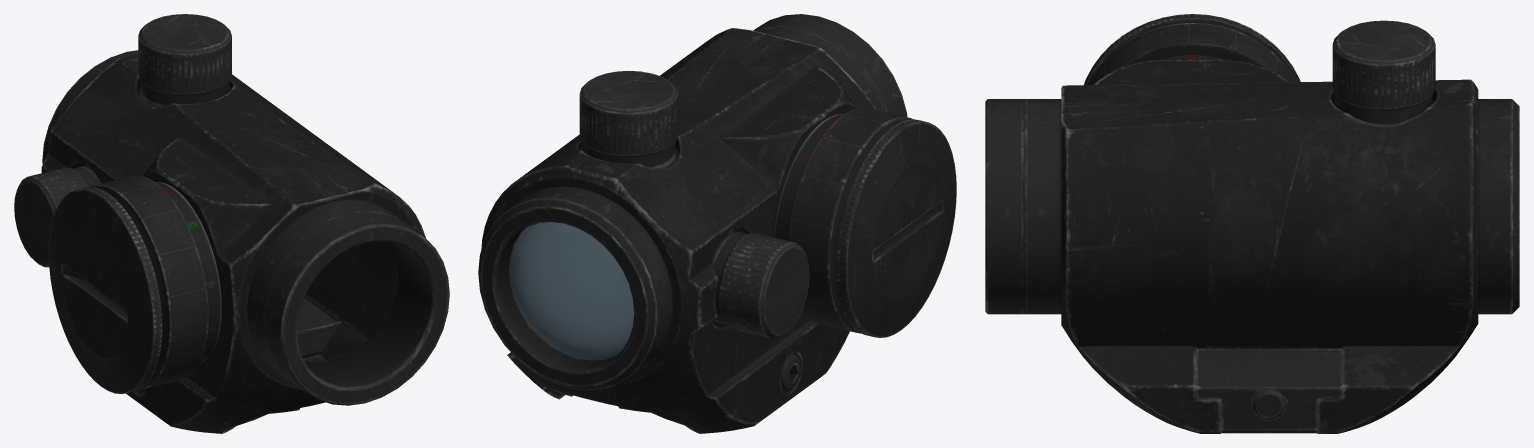
File: opt_rds.glb
The picture shows the model from 3 angles, left to right: view 1: azimuth 30°, elevation 25°; view 2: azimuth 150°, elevation 25°; view 3: azimuth 270°, elevation 25°; orthographic projection. The views are drawn at different scales.
Visible parts, largest first — view 1: O_opt_rds__Body; view 2: O_opt_rds__Body, O_opt_rds__Body2; view 3: O_opt_rds__Body.
Boxes of the visible parts, x1,y1,x2,y2 form: O_opt_rds__Body: (14, 14, 449, 433); O_opt_rds__Body: (478, 14, 956, 433); O_opt_rds__Body2: (509, 222, 634, 360); O_opt_rds__Body: (985, 14, 1519, 433).
Bounding box in the file's own units: 0.2827 × 0.298 × 0.4233.
Materials: 2 (2 with a texture image).
